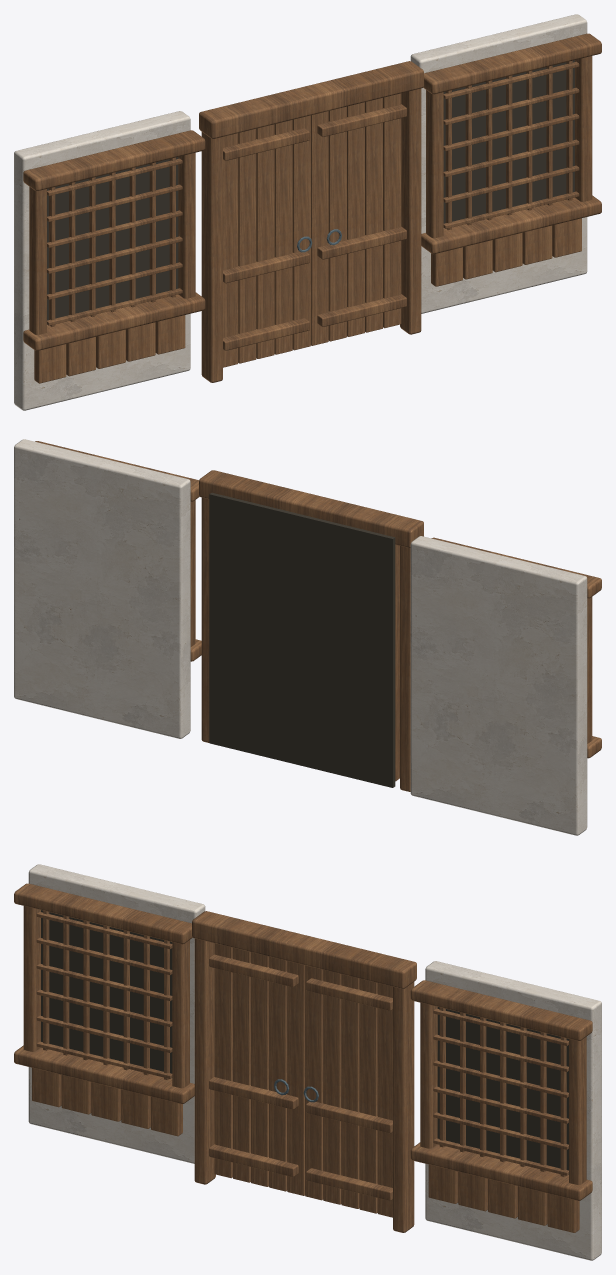
The model's file is tea-facade-v1.glb.
3 renders of one model, top to bottom at view 1: azimuth 30°, elevation 25°; view 2: azimuth 150°, elevation 25°; view 3: azimuth 330°, elevation 25°, orthographic.
Visible parts, largest first — view 1: facade; view 2: facade; view 3: facade.
Boxes of the visible parts, <box> form: facade: <box>14,14,601,410</box>; facade: <box>14,439,601,835</box>; facade: <box>14,864,601,1260</box>.
Bounding box in the file's own units: 5.72 × 2.55 × 0.4304.
Materials: 5 (3 with a texture image).
